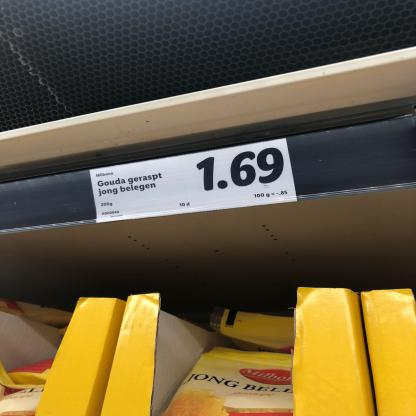prtg: (91, 139, 299, 224)
